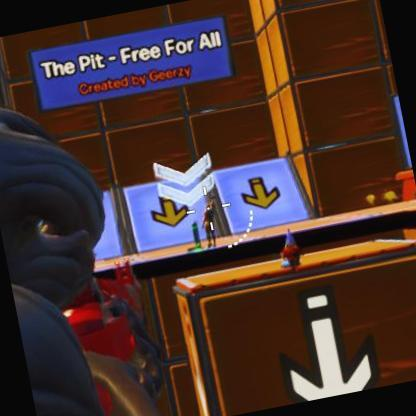person: (199, 204, 216, 238)
